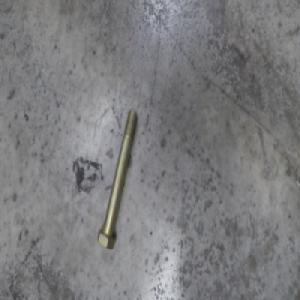Bolt: (95, 108, 137, 248)
